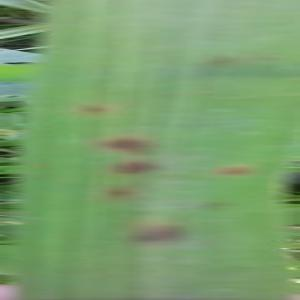Brown_Spot: (115, 215, 200, 249), (91, 130, 165, 155), (106, 158, 167, 178), (193, 195, 244, 214), (201, 51, 246, 68), (214, 162, 254, 180), (75, 99, 112, 117), (103, 185, 140, 202)
